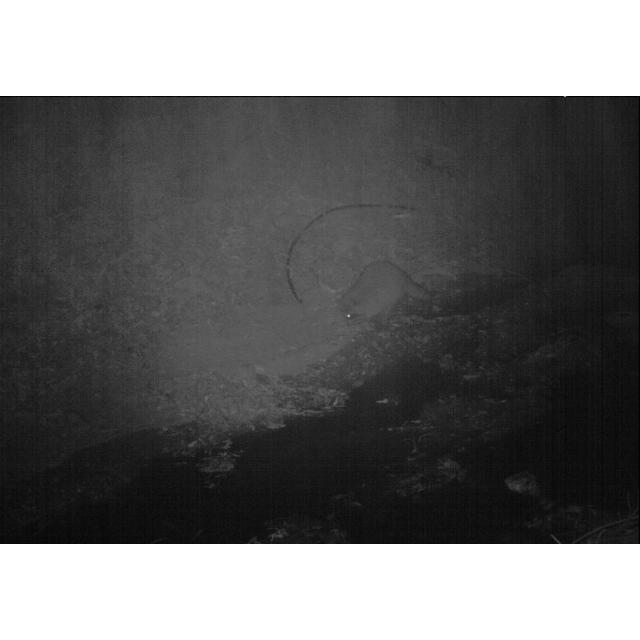animals: (334, 260, 438, 334)
